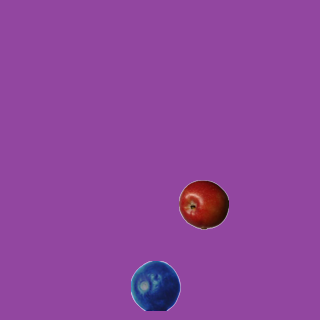Apple Braeburn: (178, 179, 228, 229)
Huckleberry: (130, 260, 180, 310)
